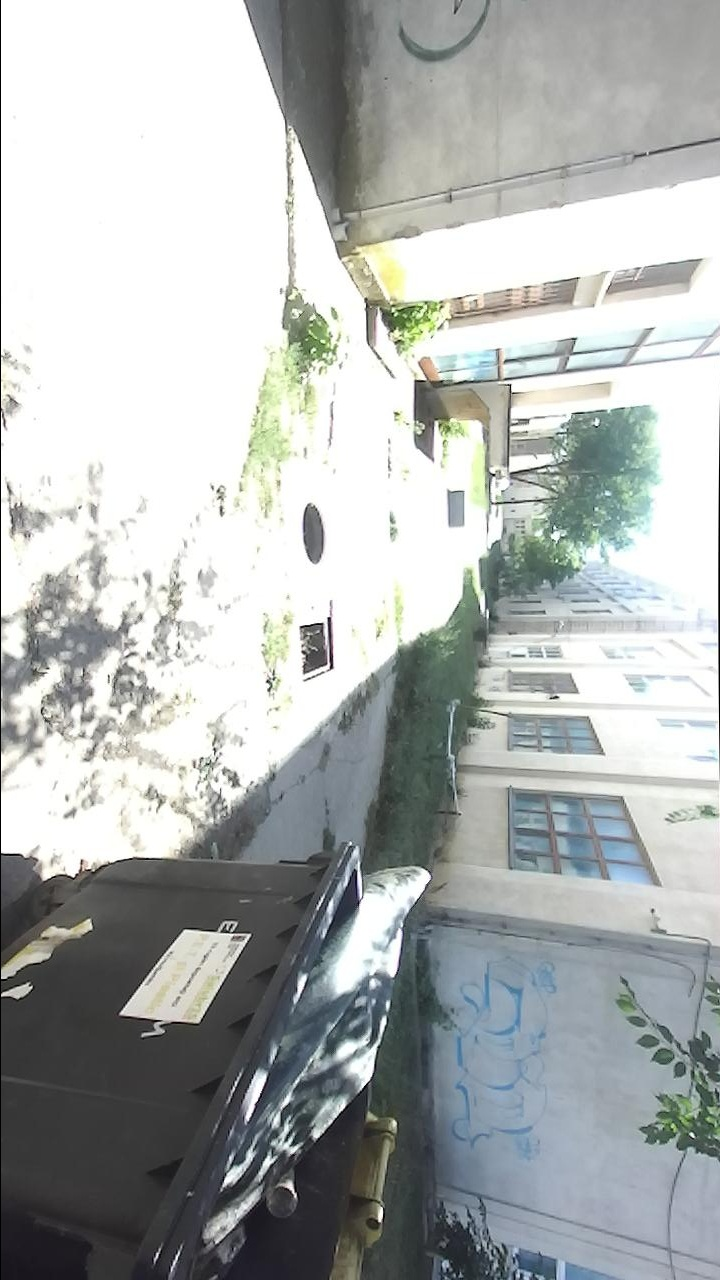drain: (296, 613, 333, 684), (300, 498, 330, 567)
